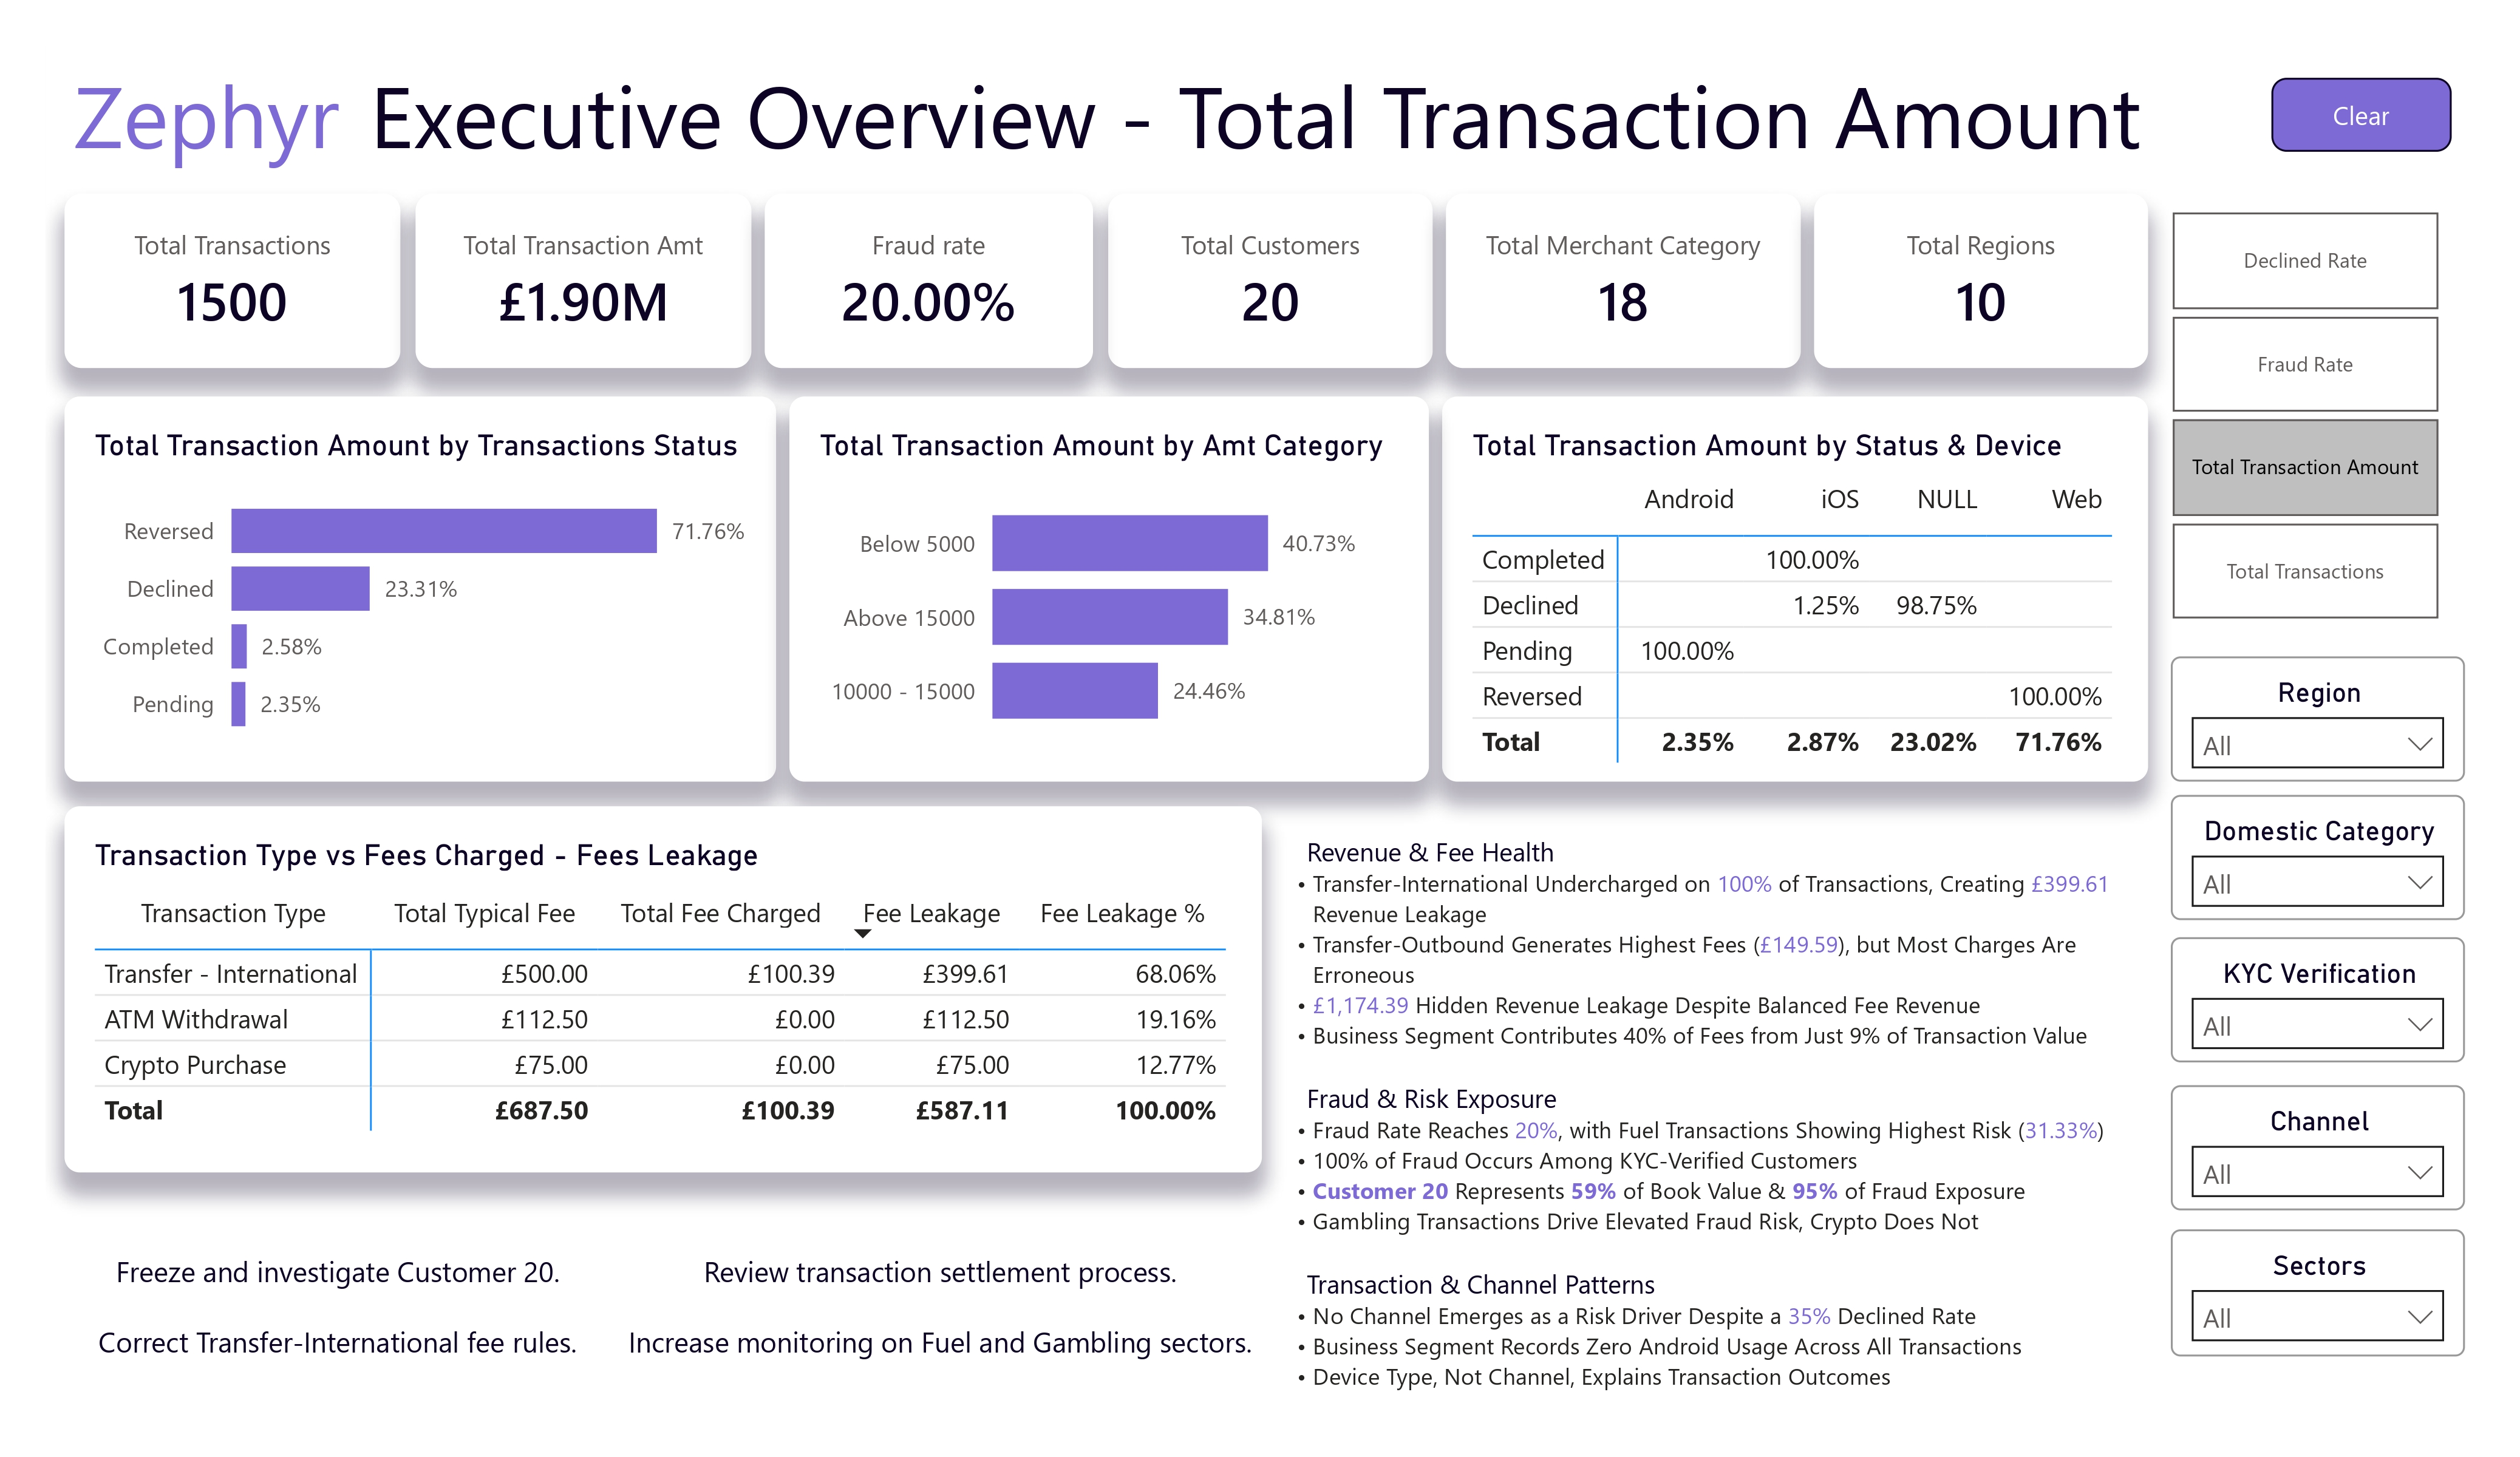

Layout of this report page (visuals, bound fields, positions):
{"tool":"powerbi","page":{"name":"Executive Overview","canvas":[1280,720],"ordinal":0},"visuals":[{"type":"textbox","box":[166,0,977.1,64.7],"z":0},{"type":"slicer","title":"Region","fields":{"Values":["zephyr.region"]},"box":[1119.7,321.8,155.8,66.1],"z":1000},{"type":"cardVisual","fields":{"Data":["Measure table.Total Transactions"]},"box":[10.3,77.9,177,92.6],"z":2000},{"type":"cardVisual","fields":{"Data":["Measure table.Total Transaction Amt"]},"box":[195.4,77.9,176.3,92.6],"z":3000},{"type":"cardVisual","fields":{"Data":["Measure table.Total Customers"]},"box":[559.8,77.9,171,92.6],"z":4000},{"type":"cardVisual","fields":{"Data":["Measure table.Total Merchant Category"]},"box":[737.6,77.9,187,92.6],"z":5000},{"type":"cardVisual","fields":{"Data":["Measure table.Total Regions"]},"box":[931.6,77.9,176.3,92.6],"z":6000},{"type":"cardVisual","fields":{"Data":["Measure table.Fraud rate"]},"box":[379.1,77.9,173.4,92.6],"z":7000},{"type":"clusteredBarChart","fields":{"Category":["zephyr.transaction_status"],"Y":["Measure table.Measure"]},"box":[10.3,185.1,374.7,202.8],"z":8000},{"type":"pivotTable","fields":{"Rows":["zephyr.transaction_status"],"Columns":["zephyr.device_type"],"Values":["Measure table.Table Measure"]},"box":[736.2,185.1,371.8,202.8],"z":9000},{"type":"clusteredBarChart","fields":{"Category":["zephyr.amtbucket"],"Y":["Measure table.Measure"]},"box":[392.3,185.1,336.5,202.8],"z":10000},{"type":"slicer","fields":{"Values":["Parameter.Measure Parameter"]},"box":[1095.2,85.7,184.8,218.4],"z":11000},{"type":"slicer","title":"Domestic Category","fields":{"Values":["zephyr.Domestic"]},"box":[1119.7,395.3,155.8,66.1],"z":12000},{"type":"slicer","title":"KYC Verification","fields":{"Values":["zephyr.KYC Verified Category"]},"box":[1119.7,470.2,155.8,66.1],"z":13000},{"type":"slicer","title":"Channel","fields":{"Values":["zephyr.channel"]},"box":[1119.7,548.1,155.8,66.1],"z":14000},{"type":"slicer","title":"Sectors","fields":{"Values":["zephyr.sector"]},"box":[1119.7,624.5,155.8,66.1],"z":15000},{"type":"actionButton","box":[1172.5,17.3,95.4,39],"z":16000},{"type":"textbox","box":[645.1,411.4,462.9,308.6],"z":16001},{"type":"pivotTable","title":"Transaction Type vs Fees Charged - Fees Leakage","fields":{"Rows":["zephyr.type_name"],"Values":["Measure table.Total Expected Fee","Measure table.Total Fee Charged","Measure table.Fee Leakage","Divide(Measure table.Fee Leakage, ScopedEval(Measure table.Fee Leakage, [Role.Columns]))"]},"box":[10.3,401.1,630.4,192.5],"z":16002},{"type":"textbox","box":[10.3,614.2,288,105.8],"z":16003},{"type":"textbox","box":[298.3,614.2,346.8,105.8],"z":16004},{"type":"textbox","title":"Zephyr","box":[10.3,0,176.3,64.7],"z":16005}]}

Visuals, with their boxes on the page's 1280x720 design canvas (x1, y1, x2, y2). These are canvas units, not pixel positions in the 2520x1457 screenshot, which may show the page scaled, cropped or inside an application window:
textbox: <box>166,0,1143,65</box>
"Region" slicer: <box>1120,322,1276,388</box>
cardVisual - Measure table.Total Transactions: <box>10,78,187,170</box>
cardVisual - Measure table.Total Transaction Amt: <box>195,78,372,170</box>
cardVisual - Measure table.Total Customers: <box>560,78,731,170</box>
cardVisual - Measure table.Total Merchant Category: <box>738,78,925,170</box>
cardVisual - Measure table.Total Regions: <box>932,78,1108,170</box>
cardVisual - Measure table.Fraud rate: <box>379,78,552,170</box>
clusteredBarChart - zephyr.transaction_status x Measure table.Measure: <box>10,185,385,388</box>
pivotTable - zephyr.transaction_status x zephyr.device_type: <box>736,185,1108,388</box>
clusteredBarChart - zephyr.amtbucket x Measure table.Measure: <box>392,185,729,388</box>
slicer - Parameter.Measure Parameter: <box>1095,86,1280,304</box>
"Domestic Category" slicer: <box>1120,395,1276,461</box>
"KYC Verification" slicer: <box>1120,470,1276,536</box>
"Channel" slicer: <box>1120,548,1276,614</box>
"Sectors" slicer: <box>1120,624,1276,691</box>
actionButton: <box>1172,17,1268,56</box>
textbox: <box>645,411,1108,720</box>
"Transaction Type vs Fees Charged - Fees Leakage" pivotTable: <box>10,401,641,594</box>
textbox: <box>10,614,298,720</box>
textbox: <box>298,614,645,720</box>
"Zephyr" textbox: <box>10,0,187,65</box>
